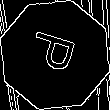P_E: (26, 30, 84, 80)
